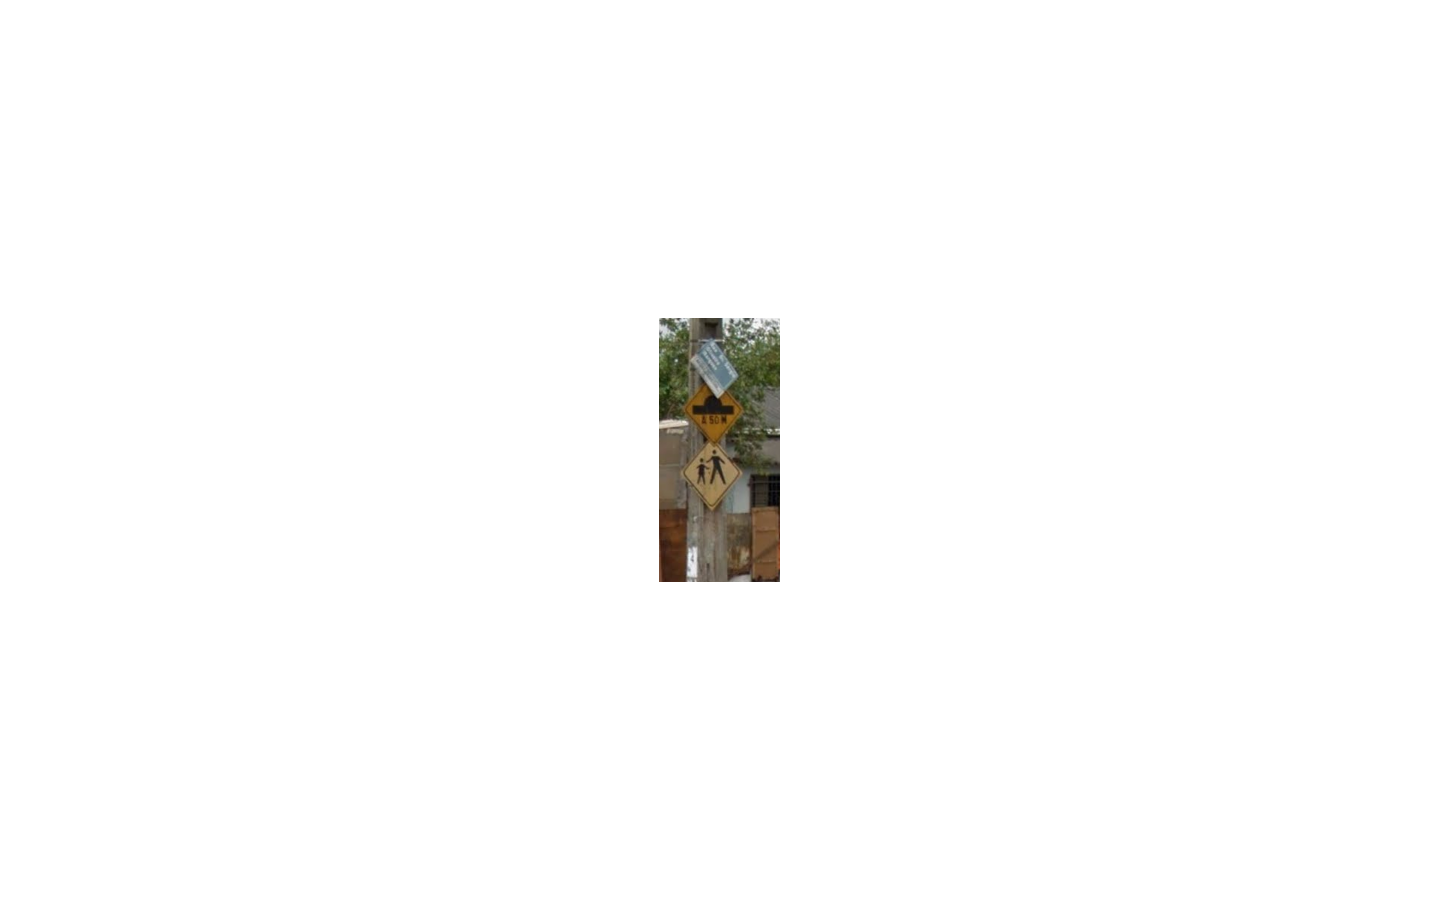l50m: (683, 381, 745, 446)
